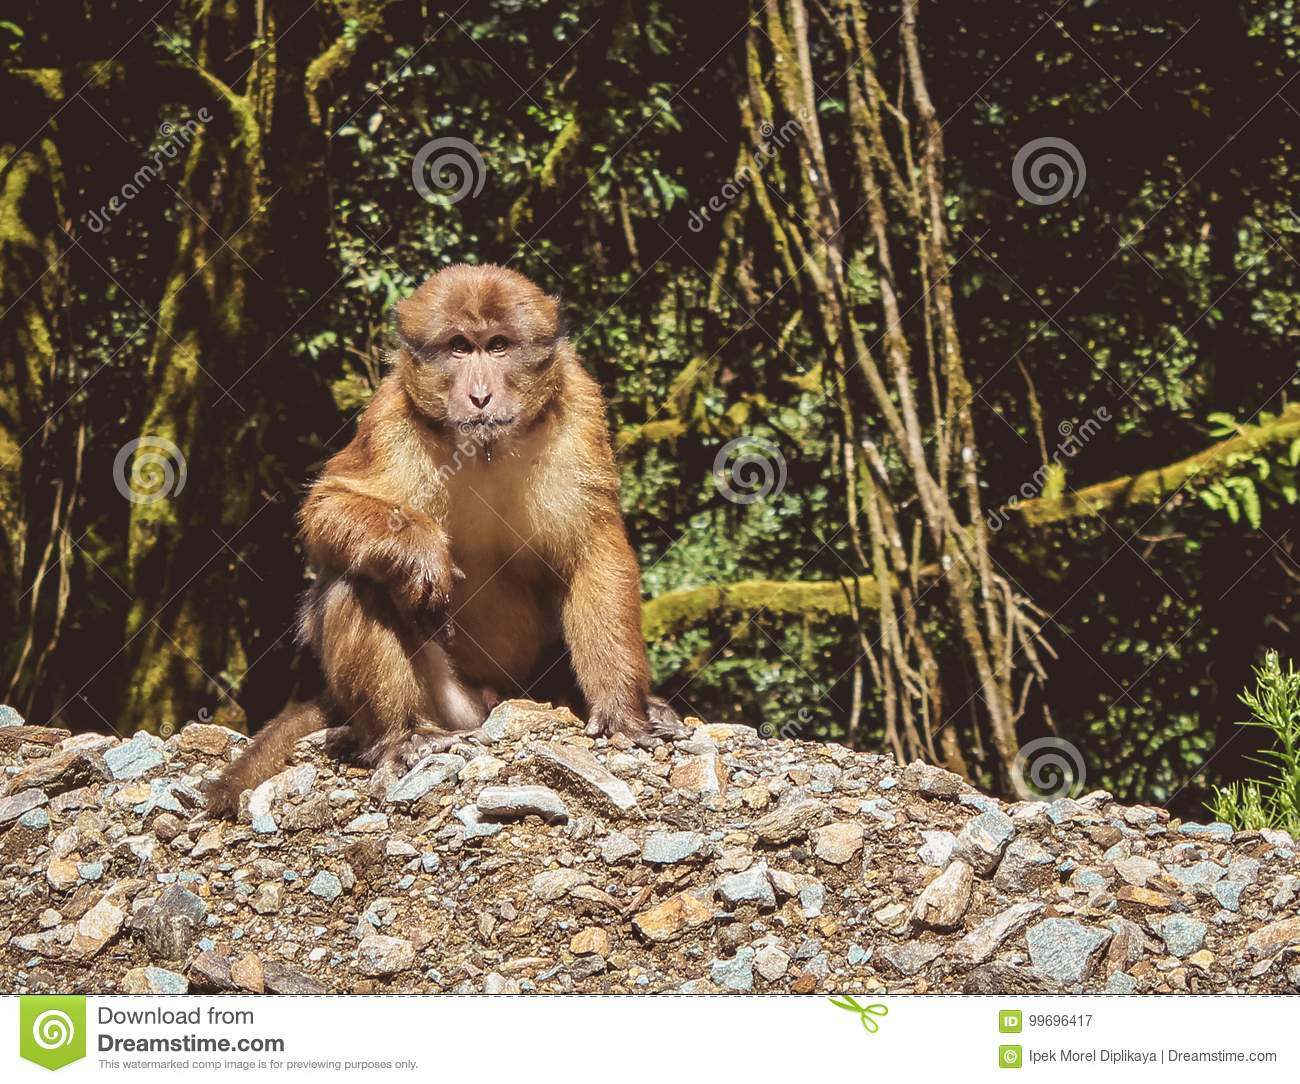monkey: (180, 238, 701, 838)
